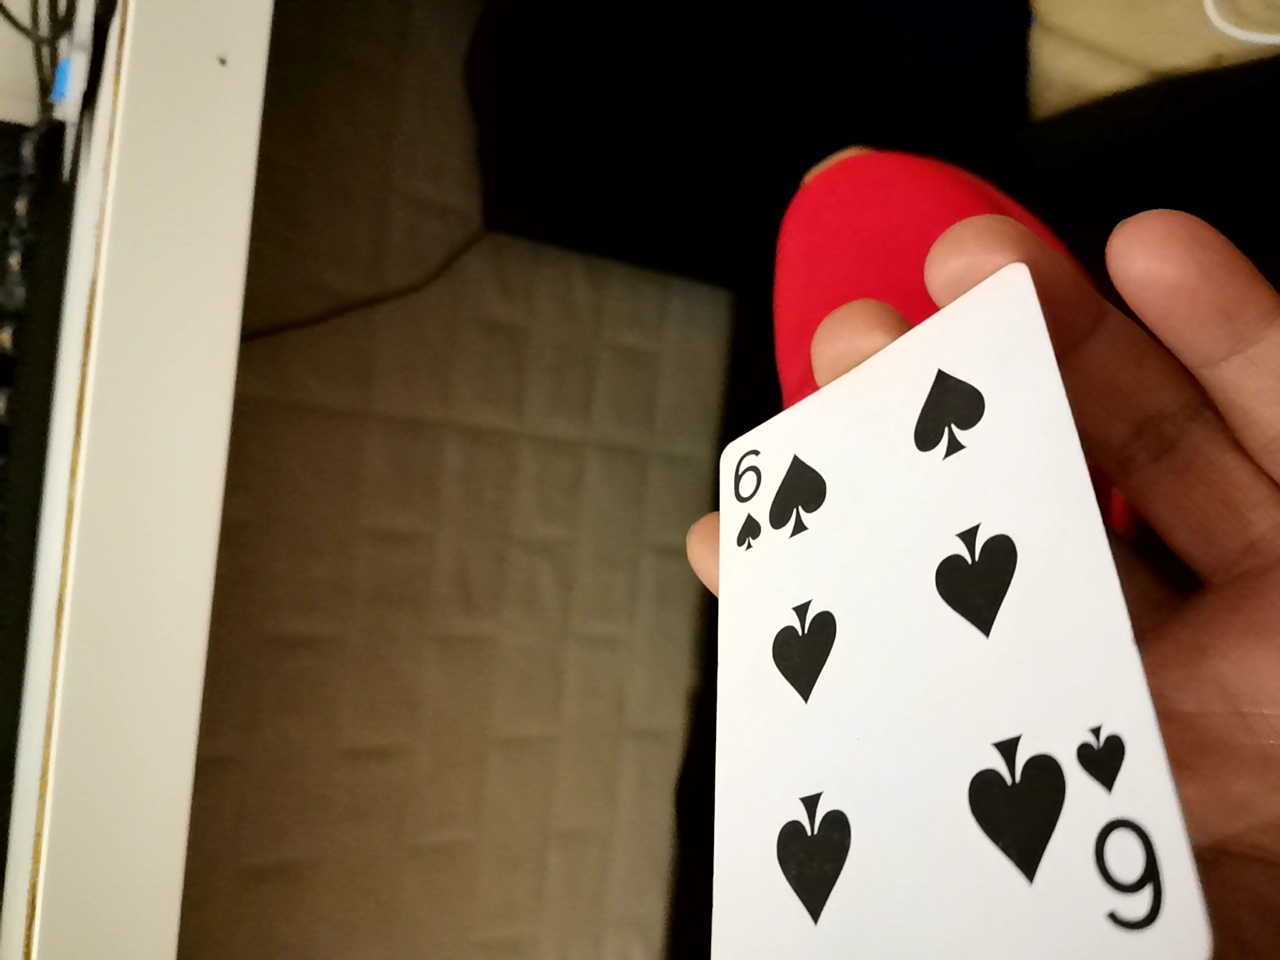ht 6: (691, 269, 1209, 951)
